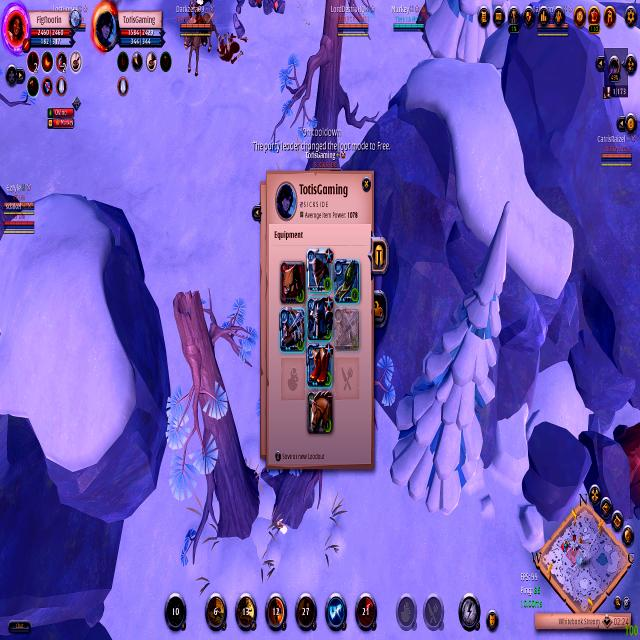ore: (231, 0, 273, 46)
red: (174, 0, 221, 75), (330, 0, 378, 48), (527, 0, 579, 43), (594, 130, 640, 170), (0, 197, 37, 242), (387, 0, 426, 40), (0, 178, 36, 217)
tree: (607, 405, 640, 518)
